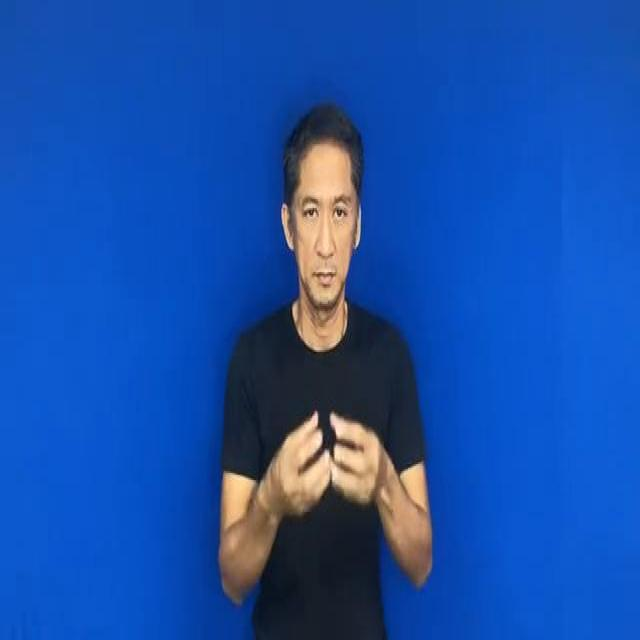egg: (256, 407, 389, 522)
